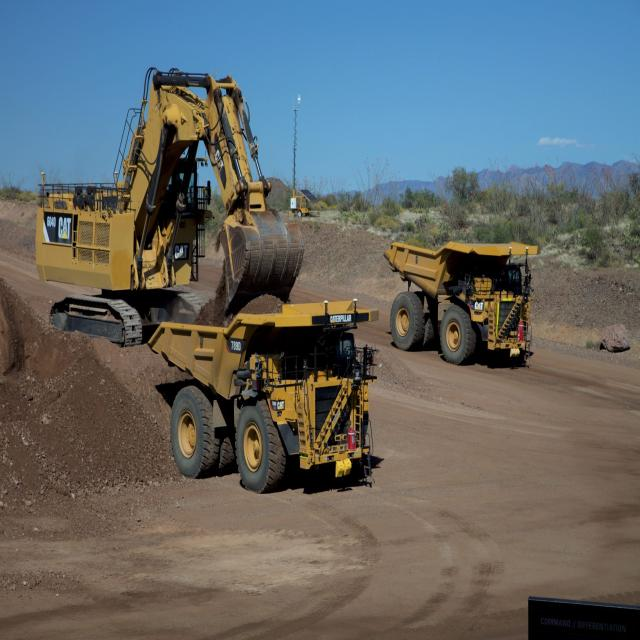dump_truck: (150, 300, 382, 493), (383, 233, 543, 374)
excavator: (21, 52, 306, 339)
